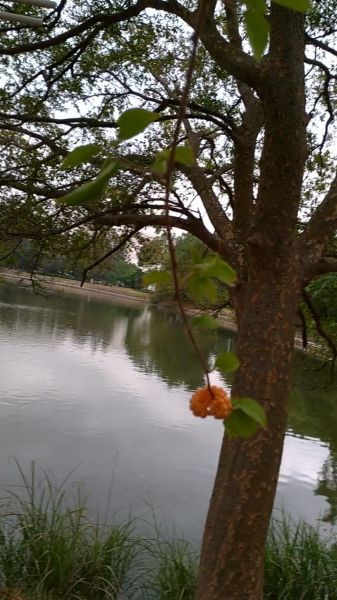eggs: (182, 381, 238, 426)
